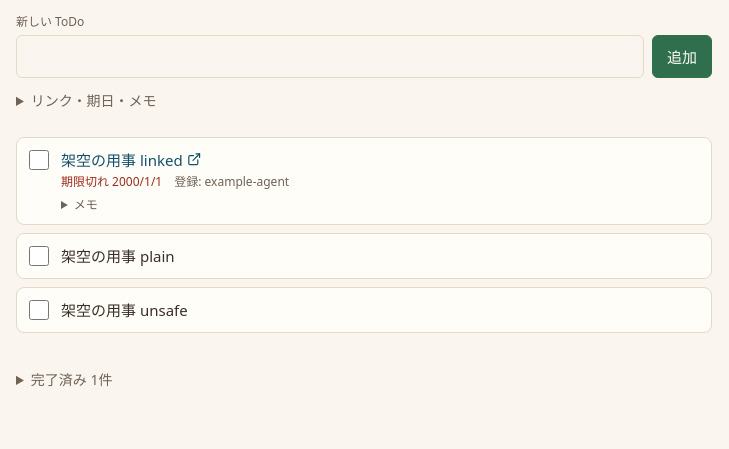
Home › reverts a failed completion and explains it on that row
Click the checkbox named "完了: 架空の用事 plain" at (39, 256), box [29,246,49,266]
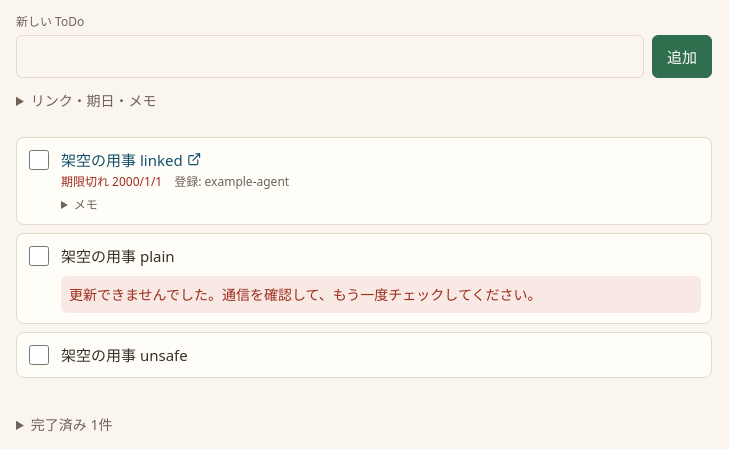
Expected: the message shows "更新できませんでした", [69,285,542,304]
